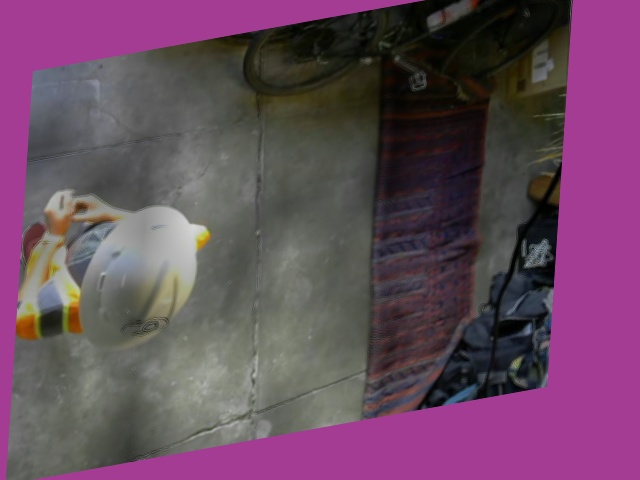eight: (118, 312, 170, 340)
